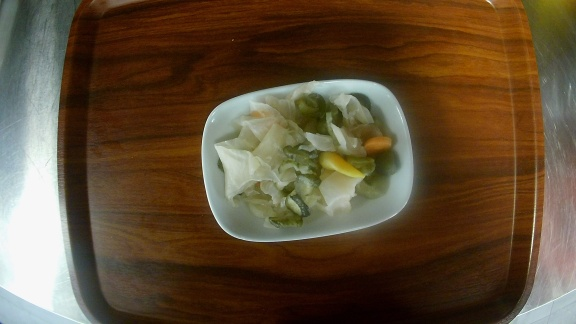tursu: (201, 79, 416, 241)
